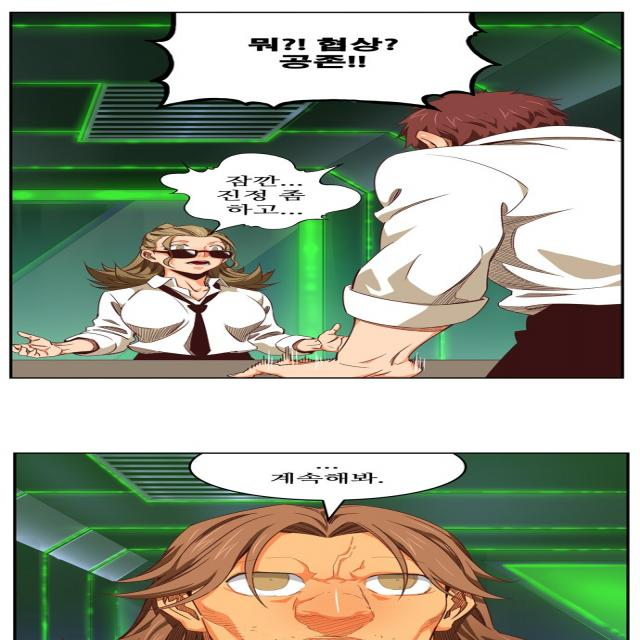Bubble: (147, 7, 504, 113), (156, 150, 367, 232), (179, 452, 469, 502)
